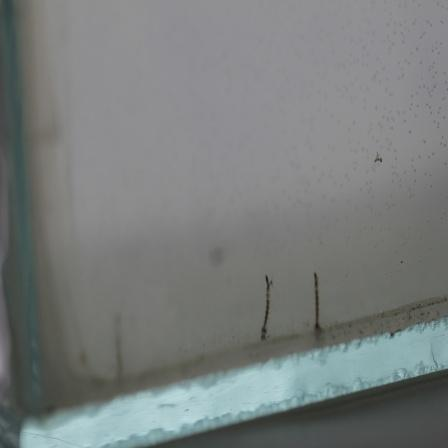Jentik-Nyamuk: (258, 272, 277, 342), (307, 269, 327, 334)
